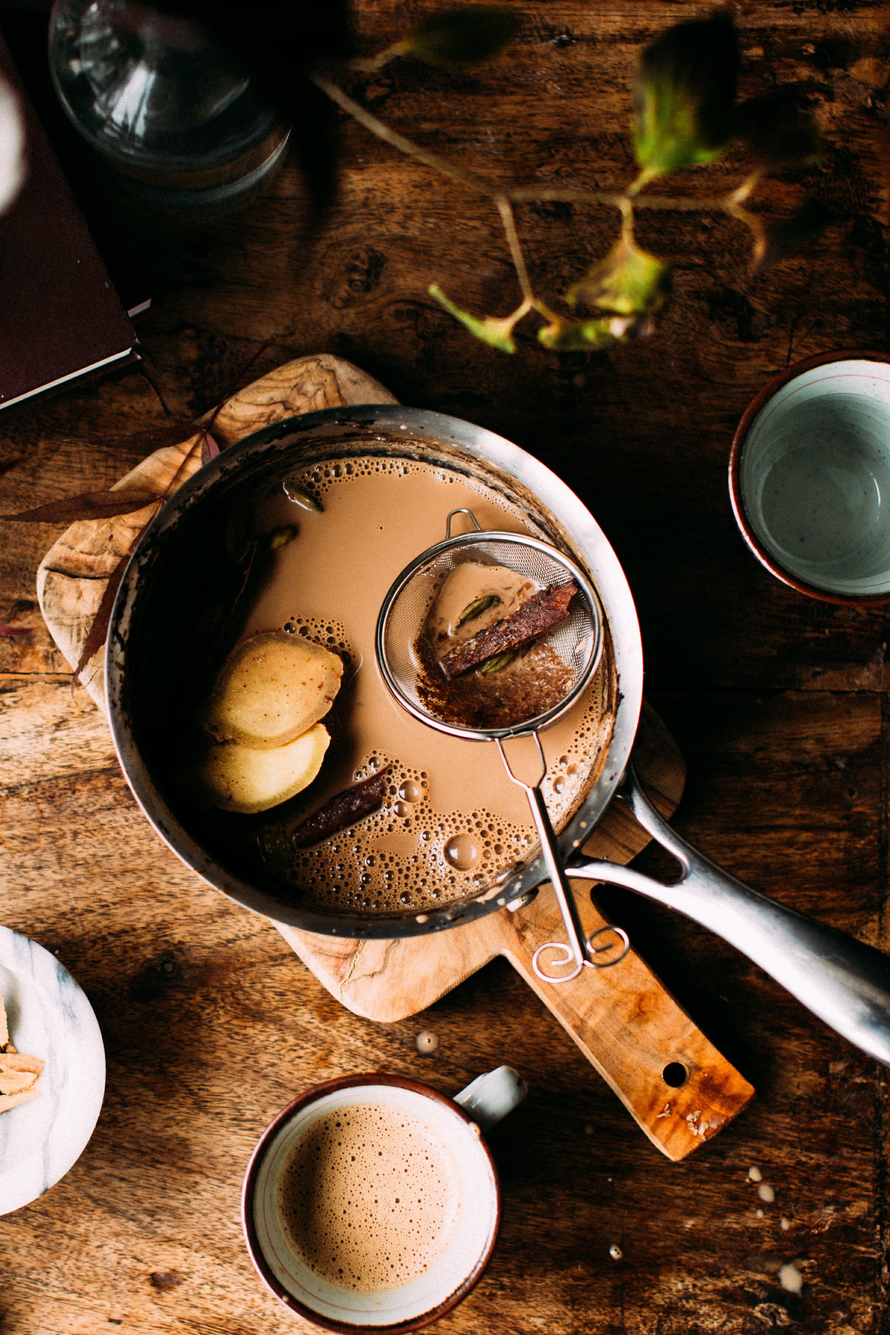Chai: (138, 449, 619, 927)
